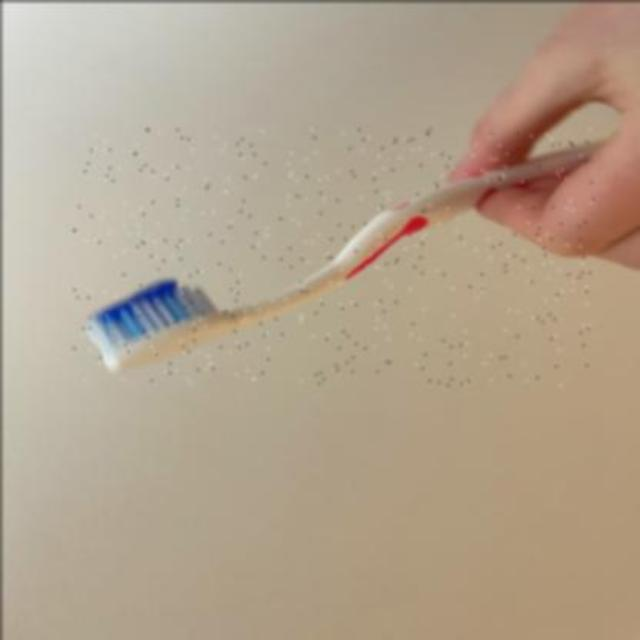toothbrush: (72, 128, 592, 384)
